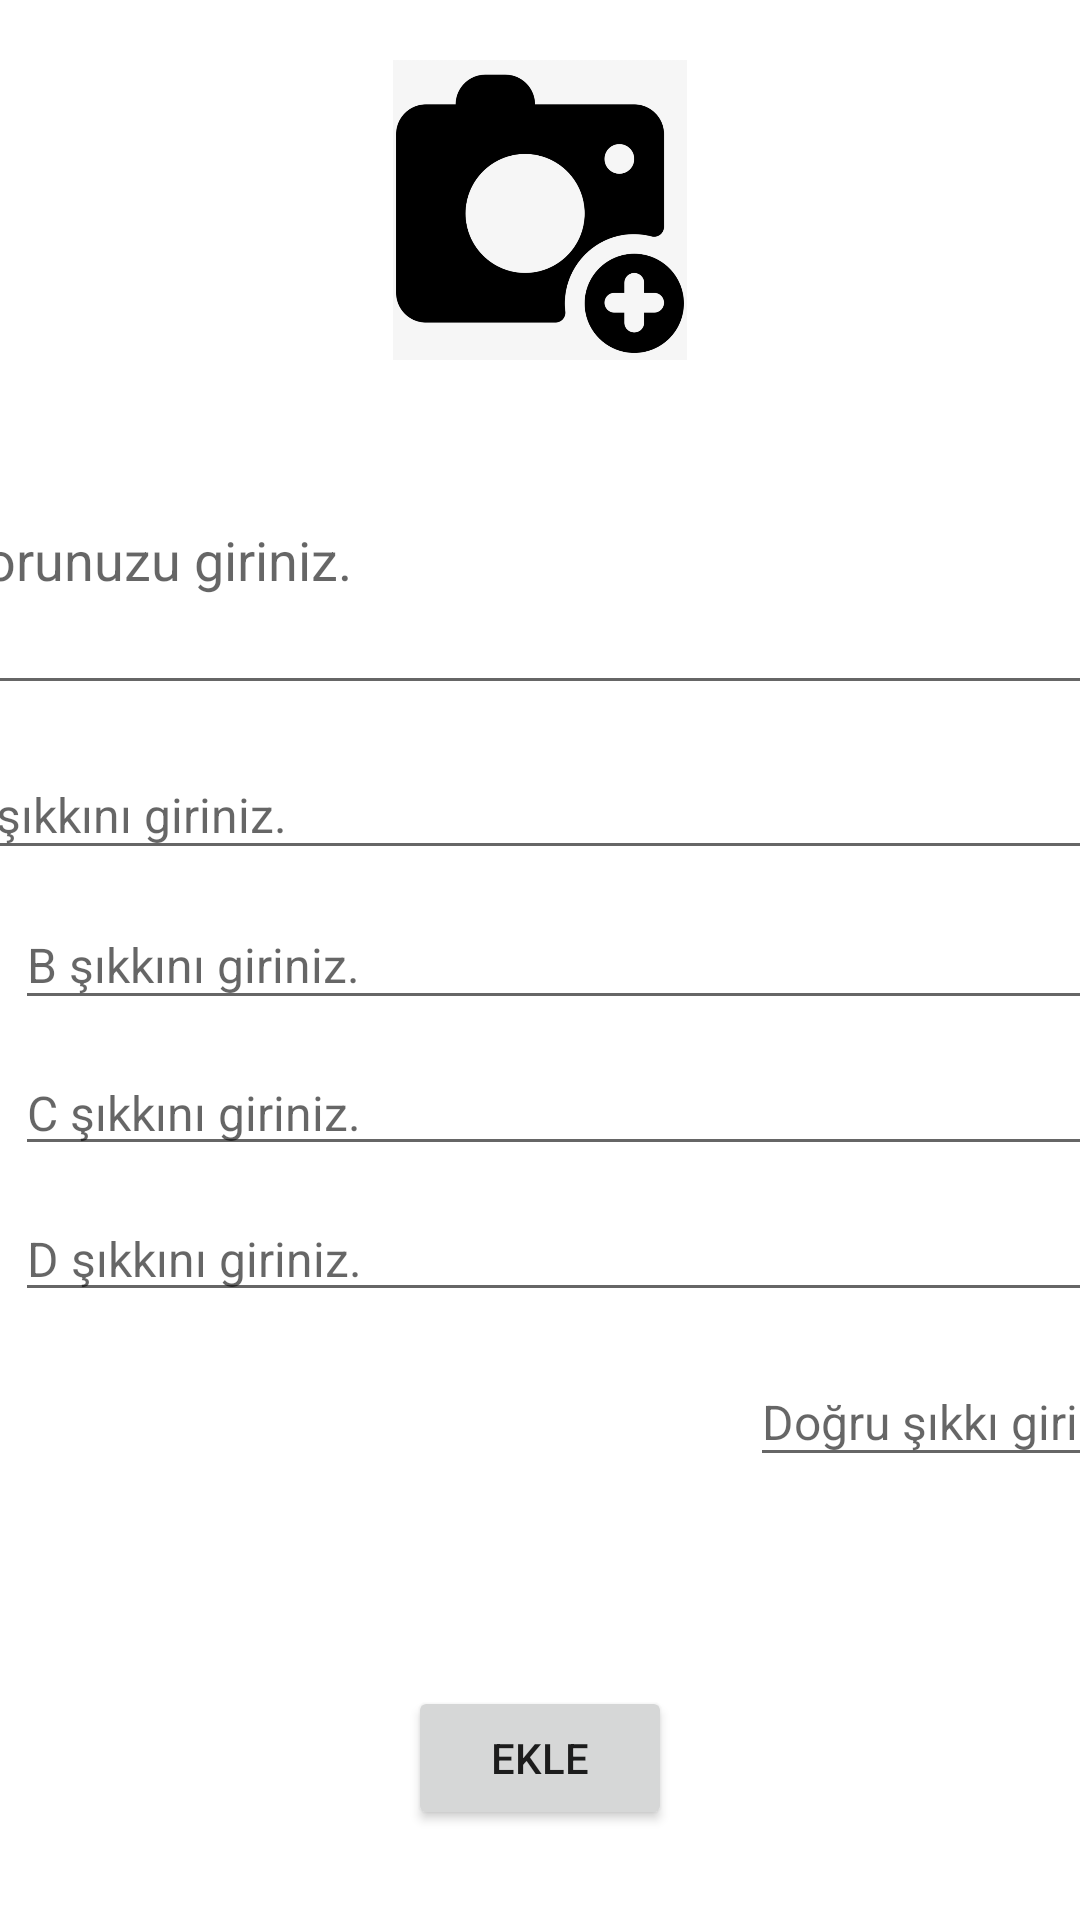

Where icons sit on this 1080*1920 app screen, as (x1, y1, x2, y2):
photo: (396, 74, 684, 353)
